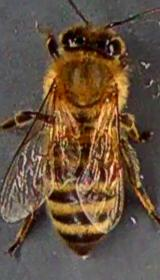varroa_mite: (101, 152, 122, 184)
